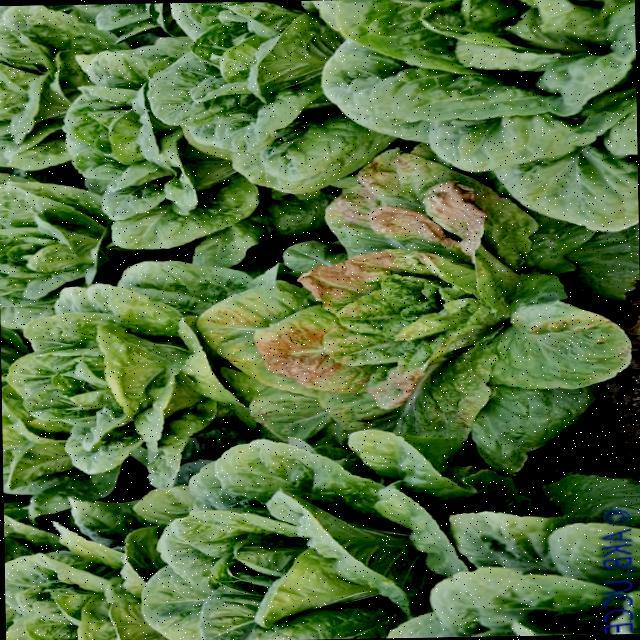Lettuce Mosaic Virus: (194, 151, 614, 468)
